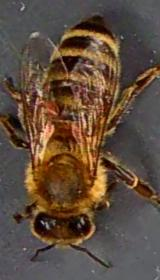varroa_mite: (36, 98, 60, 119)
